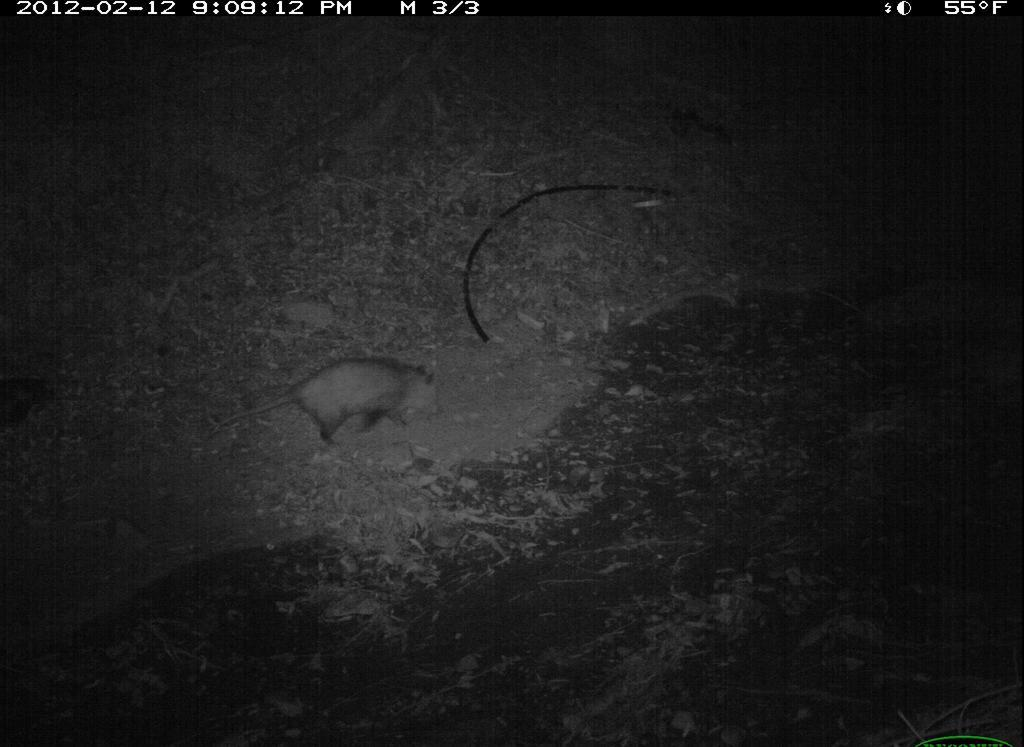opossum: (274, 361, 482, 461)
